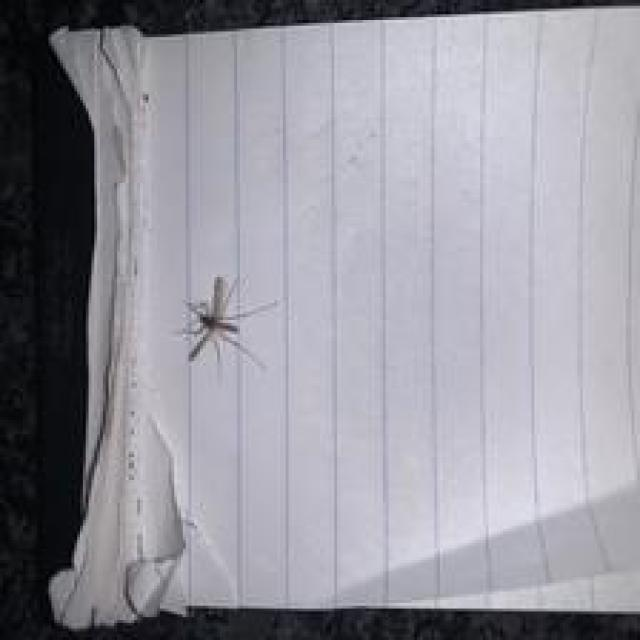Culex: (177, 272, 277, 372)
